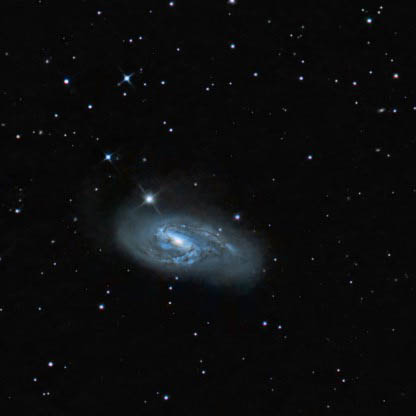Messier 66: (77, 194, 288, 289)
